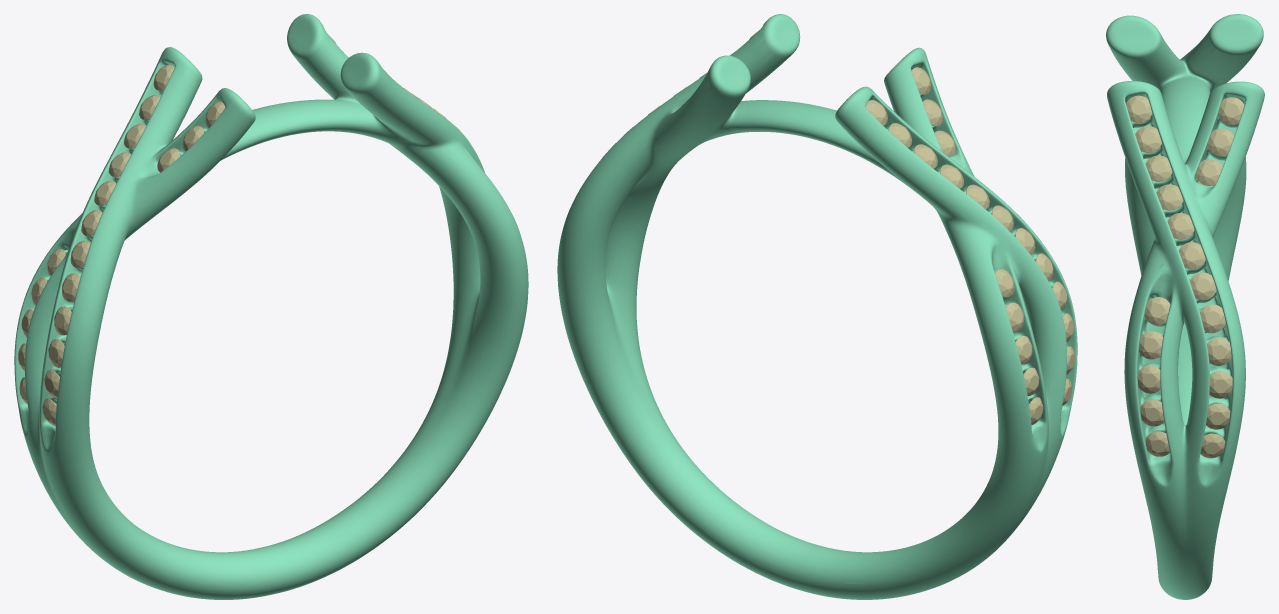
3 views of the same model, side by side, from view 1: azimuth 30°, elevation 25°; view 2: azimuth 150°, elevation 25°; view 3: azimuth 270°, elevation 25° (orthographic). The views are drawn at different scales.
Visible parts, largest first — view 1: Metal02; view 2: Metal02; view 3: Metal02, Diamond_Gem.034, Diamond_Gem.005, Diamond_Gem.036, Diamond_Gem.033, Diamond_Gem.006, Diamond_Gem.007, Diamond_Gem.012, Diamond_Gem.035, Diamond_Gem.011, Diamond_Gem.032, Diamond_Gem.037 (+9 smaller).
Boxes of the visible parts, left/top/right/bottom form: Metal02: left=14, top=14, right=528, bottom=599; Metal02: left=557, top=14, right=1077, bottom=599; Metal02: left=1106, top=14, right=1264, bottom=599; Diamond_Gem.034: left=1200, top=304, right=1225, bottom=332; Diamond_Gem.005: left=1144, top=297, right=1170, bottom=325; Diamond_Gem.036: left=1207, top=337, right=1231, bottom=365; Diamond_Gem.033: left=1190, top=272, right=1216, bottom=300; Diamond_Gem.006: left=1139, top=331, right=1163, bottom=359; Diamond_Gem.007: left=1137, top=365, right=1160, bottom=393; Diamond_Gem.012: left=1218, top=97, right=1244, bottom=125; Diamond_Gem.035: left=1126, top=95, right=1152, bottom=122; Diamond_Gem.011: left=1207, top=128, right=1233, bottom=156; Diamond_Gem.032: left=1179, top=242, right=1205, bottom=269; Diamond_Gem.037: left=1209, top=371, right=1232, bottom=398.
Size of the model in its own units: 20.93 by 22.49 by 6.15.
